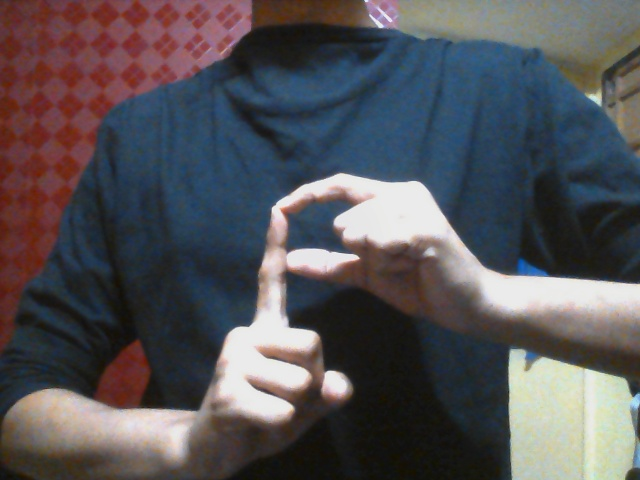P: (197, 172, 468, 460)
